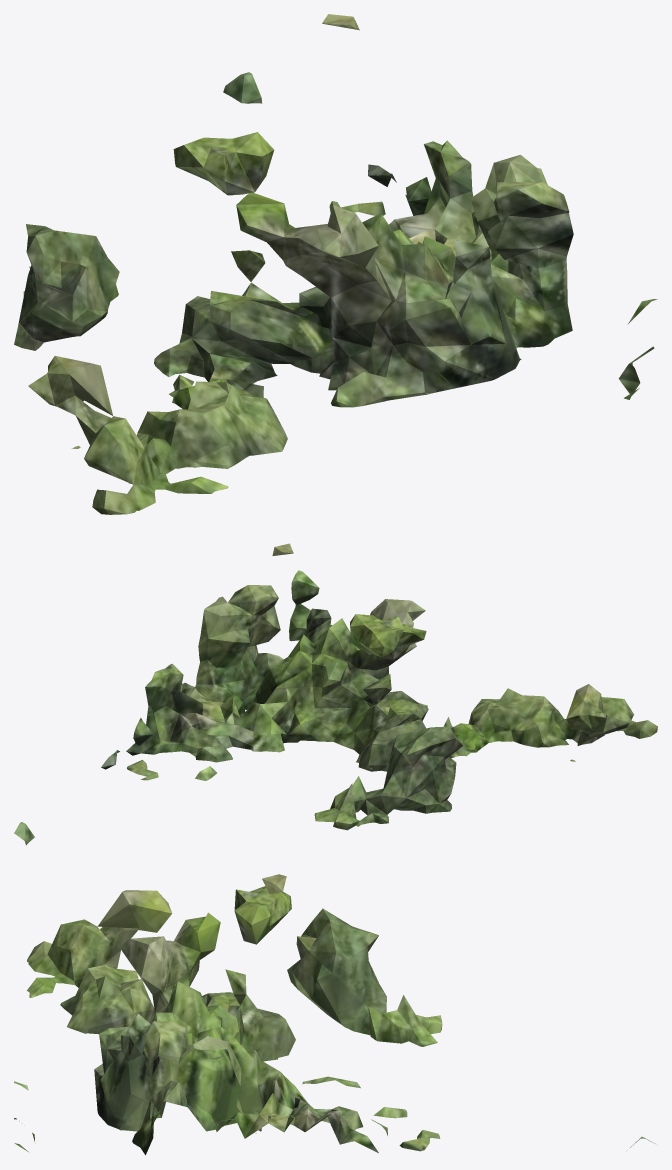
3 renders of one model, top to bottom at view 1: azimuth 30°, elevation 25°; view 2: azimuth 150°, elevation 25°; view 3: azimuth 270°, elevation 25°, orthographic. The views are drawn at different scales.
Bounding box in the file's own units: 39.15 × 19.84 × 52.22.
Materials: 2 (2 with a texture image).
